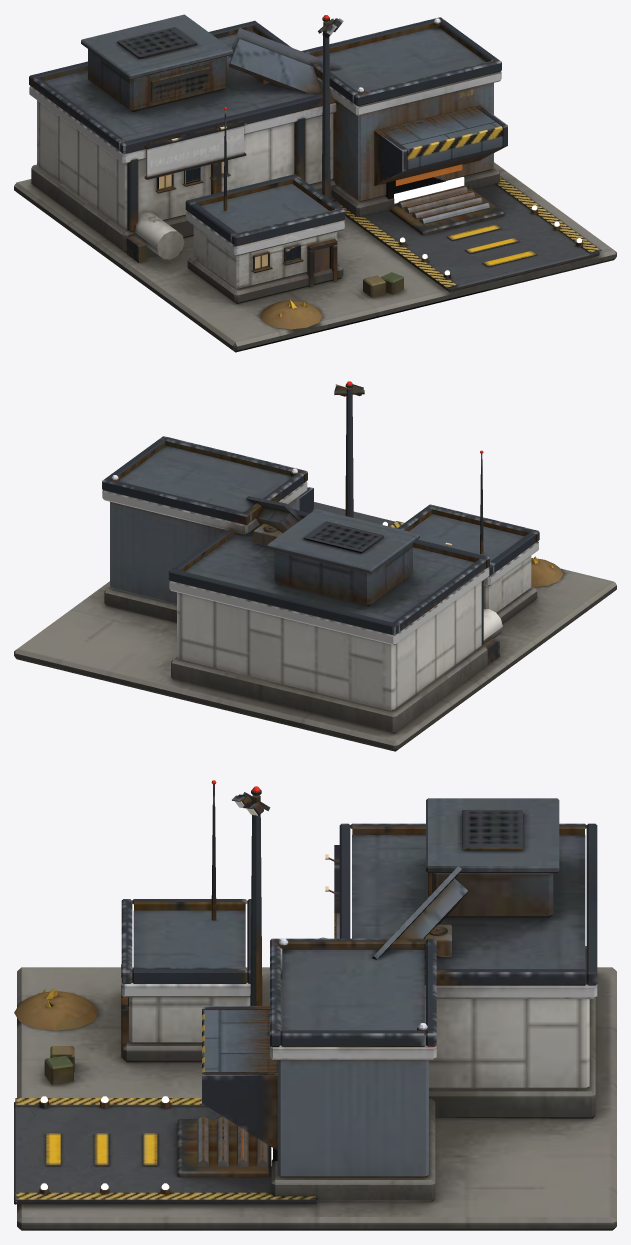
Rendered from mout.allies.glb.
The picture shows the model from 3 angles, top to bottom: view 1: azimuth 30°, elevation 25°; view 2: azimuth 150°, elevation 25°; view 3: azimuth 270°, elevation 25°; orthographic projection. The views are drawn at different scales.
Parts seen in each view (by area): view 1: root_mesh, roll3_mesh, roll2_mesh, roll0_mesh, roll1_mesh; view 2: root_mesh; view 3: root_mesh.
Part boxes in pixels (<box>): root_mesh: <box>14,14,616,352</box>; roll3_mesh: <box>419,201,489,224</box>; roll2_mesh: <box>412,196,482,219</box>; roll0_mesh: <box>397,185,467,208</box>; roll1_mesh: <box>405,190,474,213</box>; root_mesh: <box>14,381,616,751</box>; root_mesh: <box>14,780,616,1230</box>.
Bounding box in the file's own units: 1.98 × 1.13 × 1.99.
3 materials, 1 textured.
